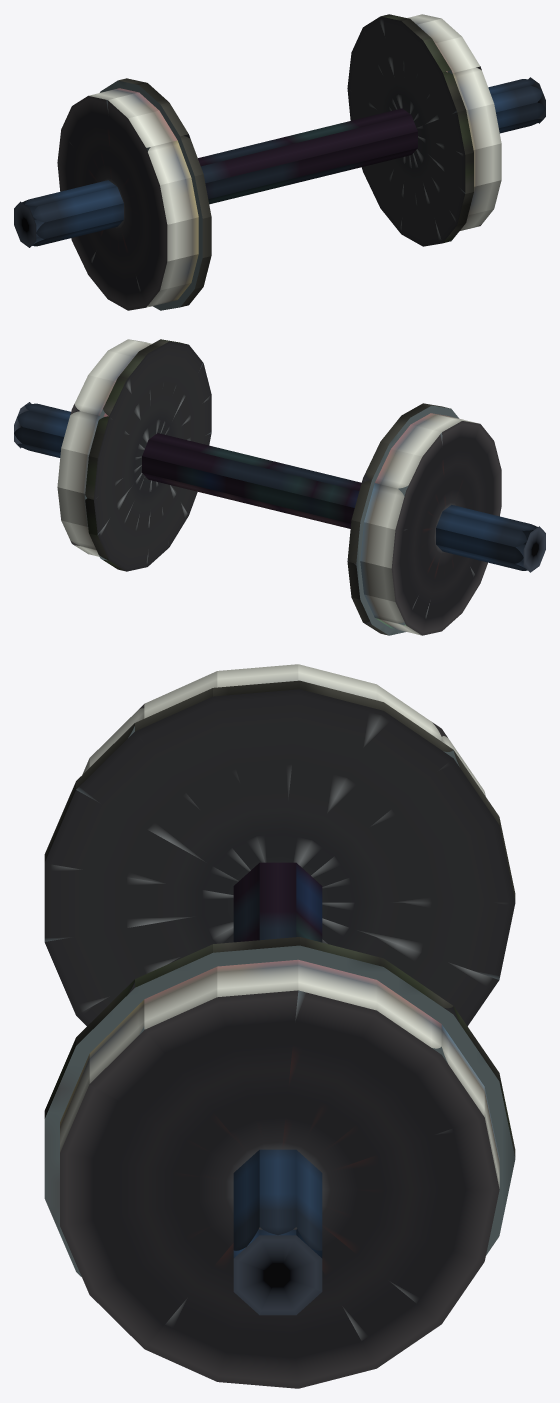
File: tkz2_wheel.obj
3 views of the same model, one above another, from view 1: azimuth 30°, elevation 25°; view 2: azimuth 150°, elevation 25°; view 3: azimuth 270°, elevation 25° (orthographic). The views are drawn at different scales.
Parts seen in each view (by area): view 1: cylinder_selection_selection_selection_selection; view 2: cylinder_selection_selection_selection_selection; view 3: cylinder_selection_selection_selection_selection.
Boxes of the visible parts, box(x1,y1,x2,y2) form: cylinder_selection_selection_selection_selection: box(14, 14, 545, 310); cylinder_selection_selection_selection_selection: box(14, 339, 545, 635); cylinder_selection_selection_selection_selection: box(44, 664, 515, 1388).
Bounding box in the file's own units: 1.88 × 0.75 × 0.75.
